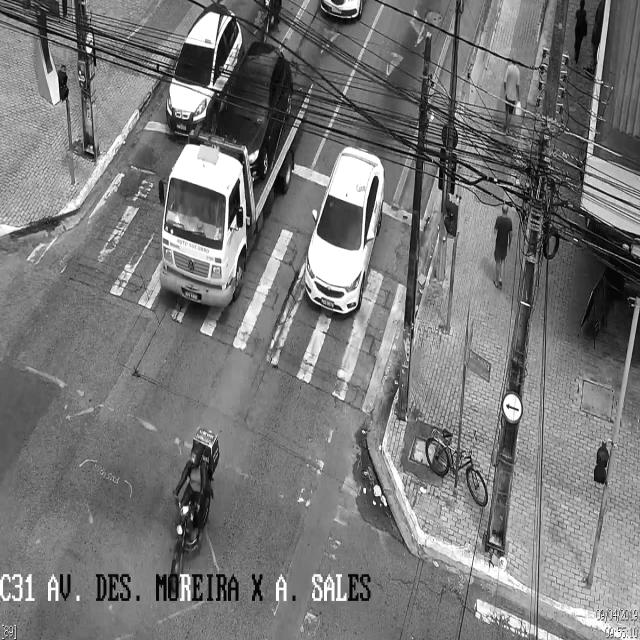Car: (305, 146, 383, 314), (218, 42, 308, 183), (167, 8, 243, 134)
Motorcycle: (168, 425, 220, 586), (257, 0, 293, 49)
Truck: (162, 82, 307, 306)
